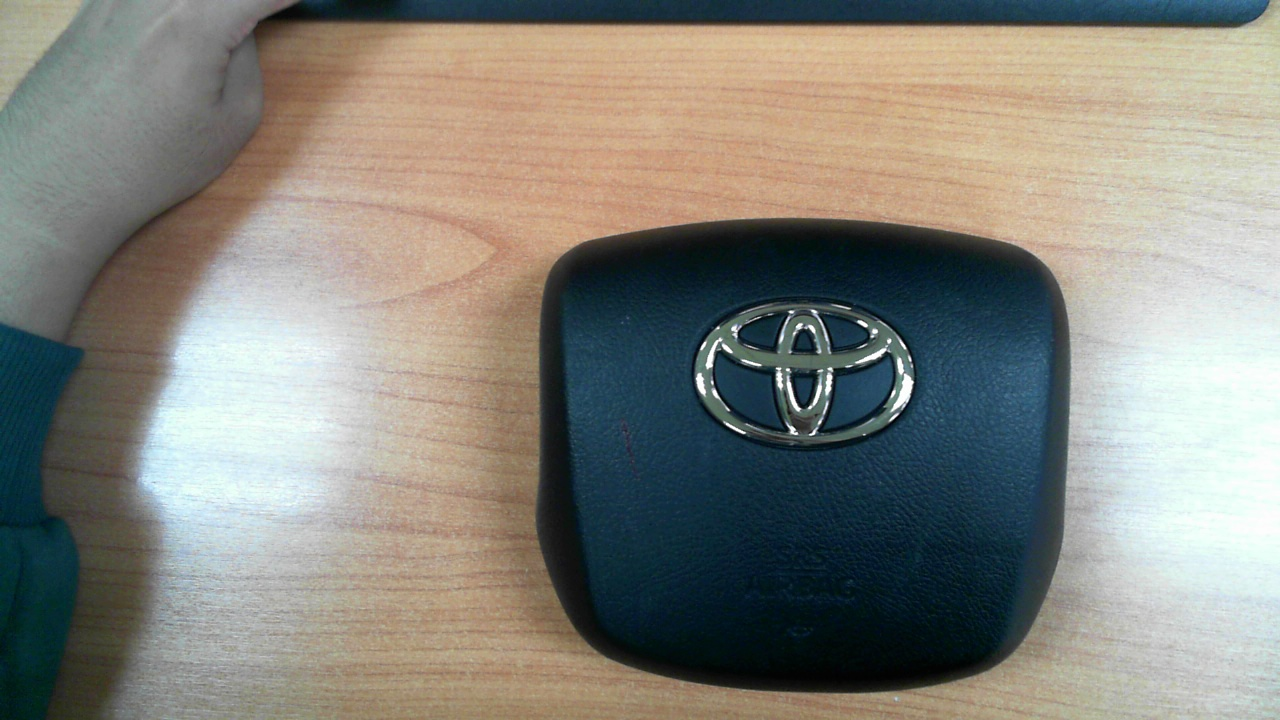Airbag: (535, 221, 1080, 690)
Toyota: (694, 300, 915, 447)
